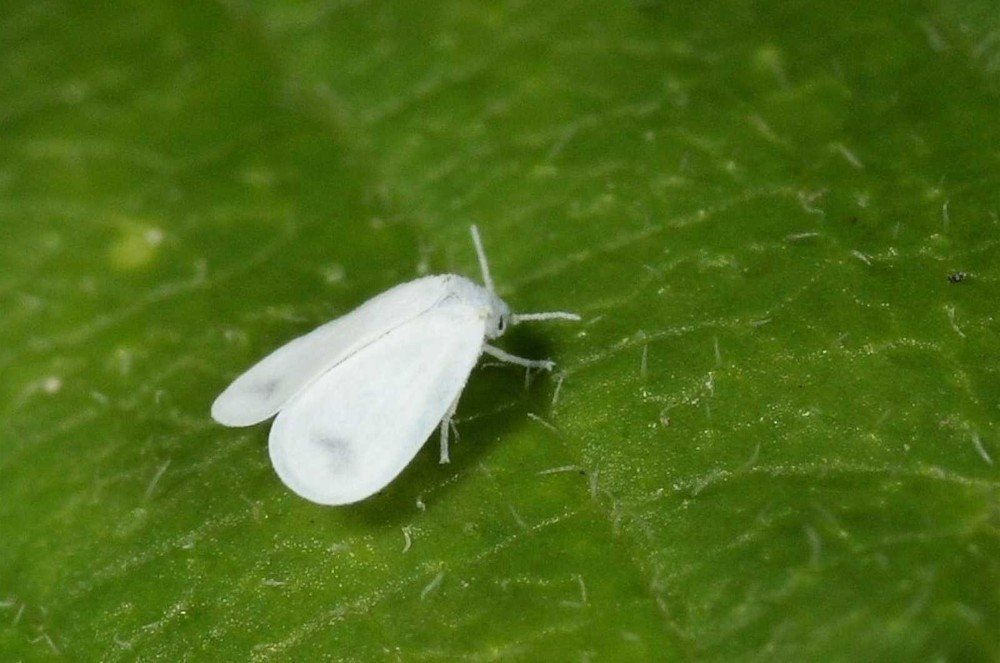Mosca Blanca: (214, 227, 586, 522)
